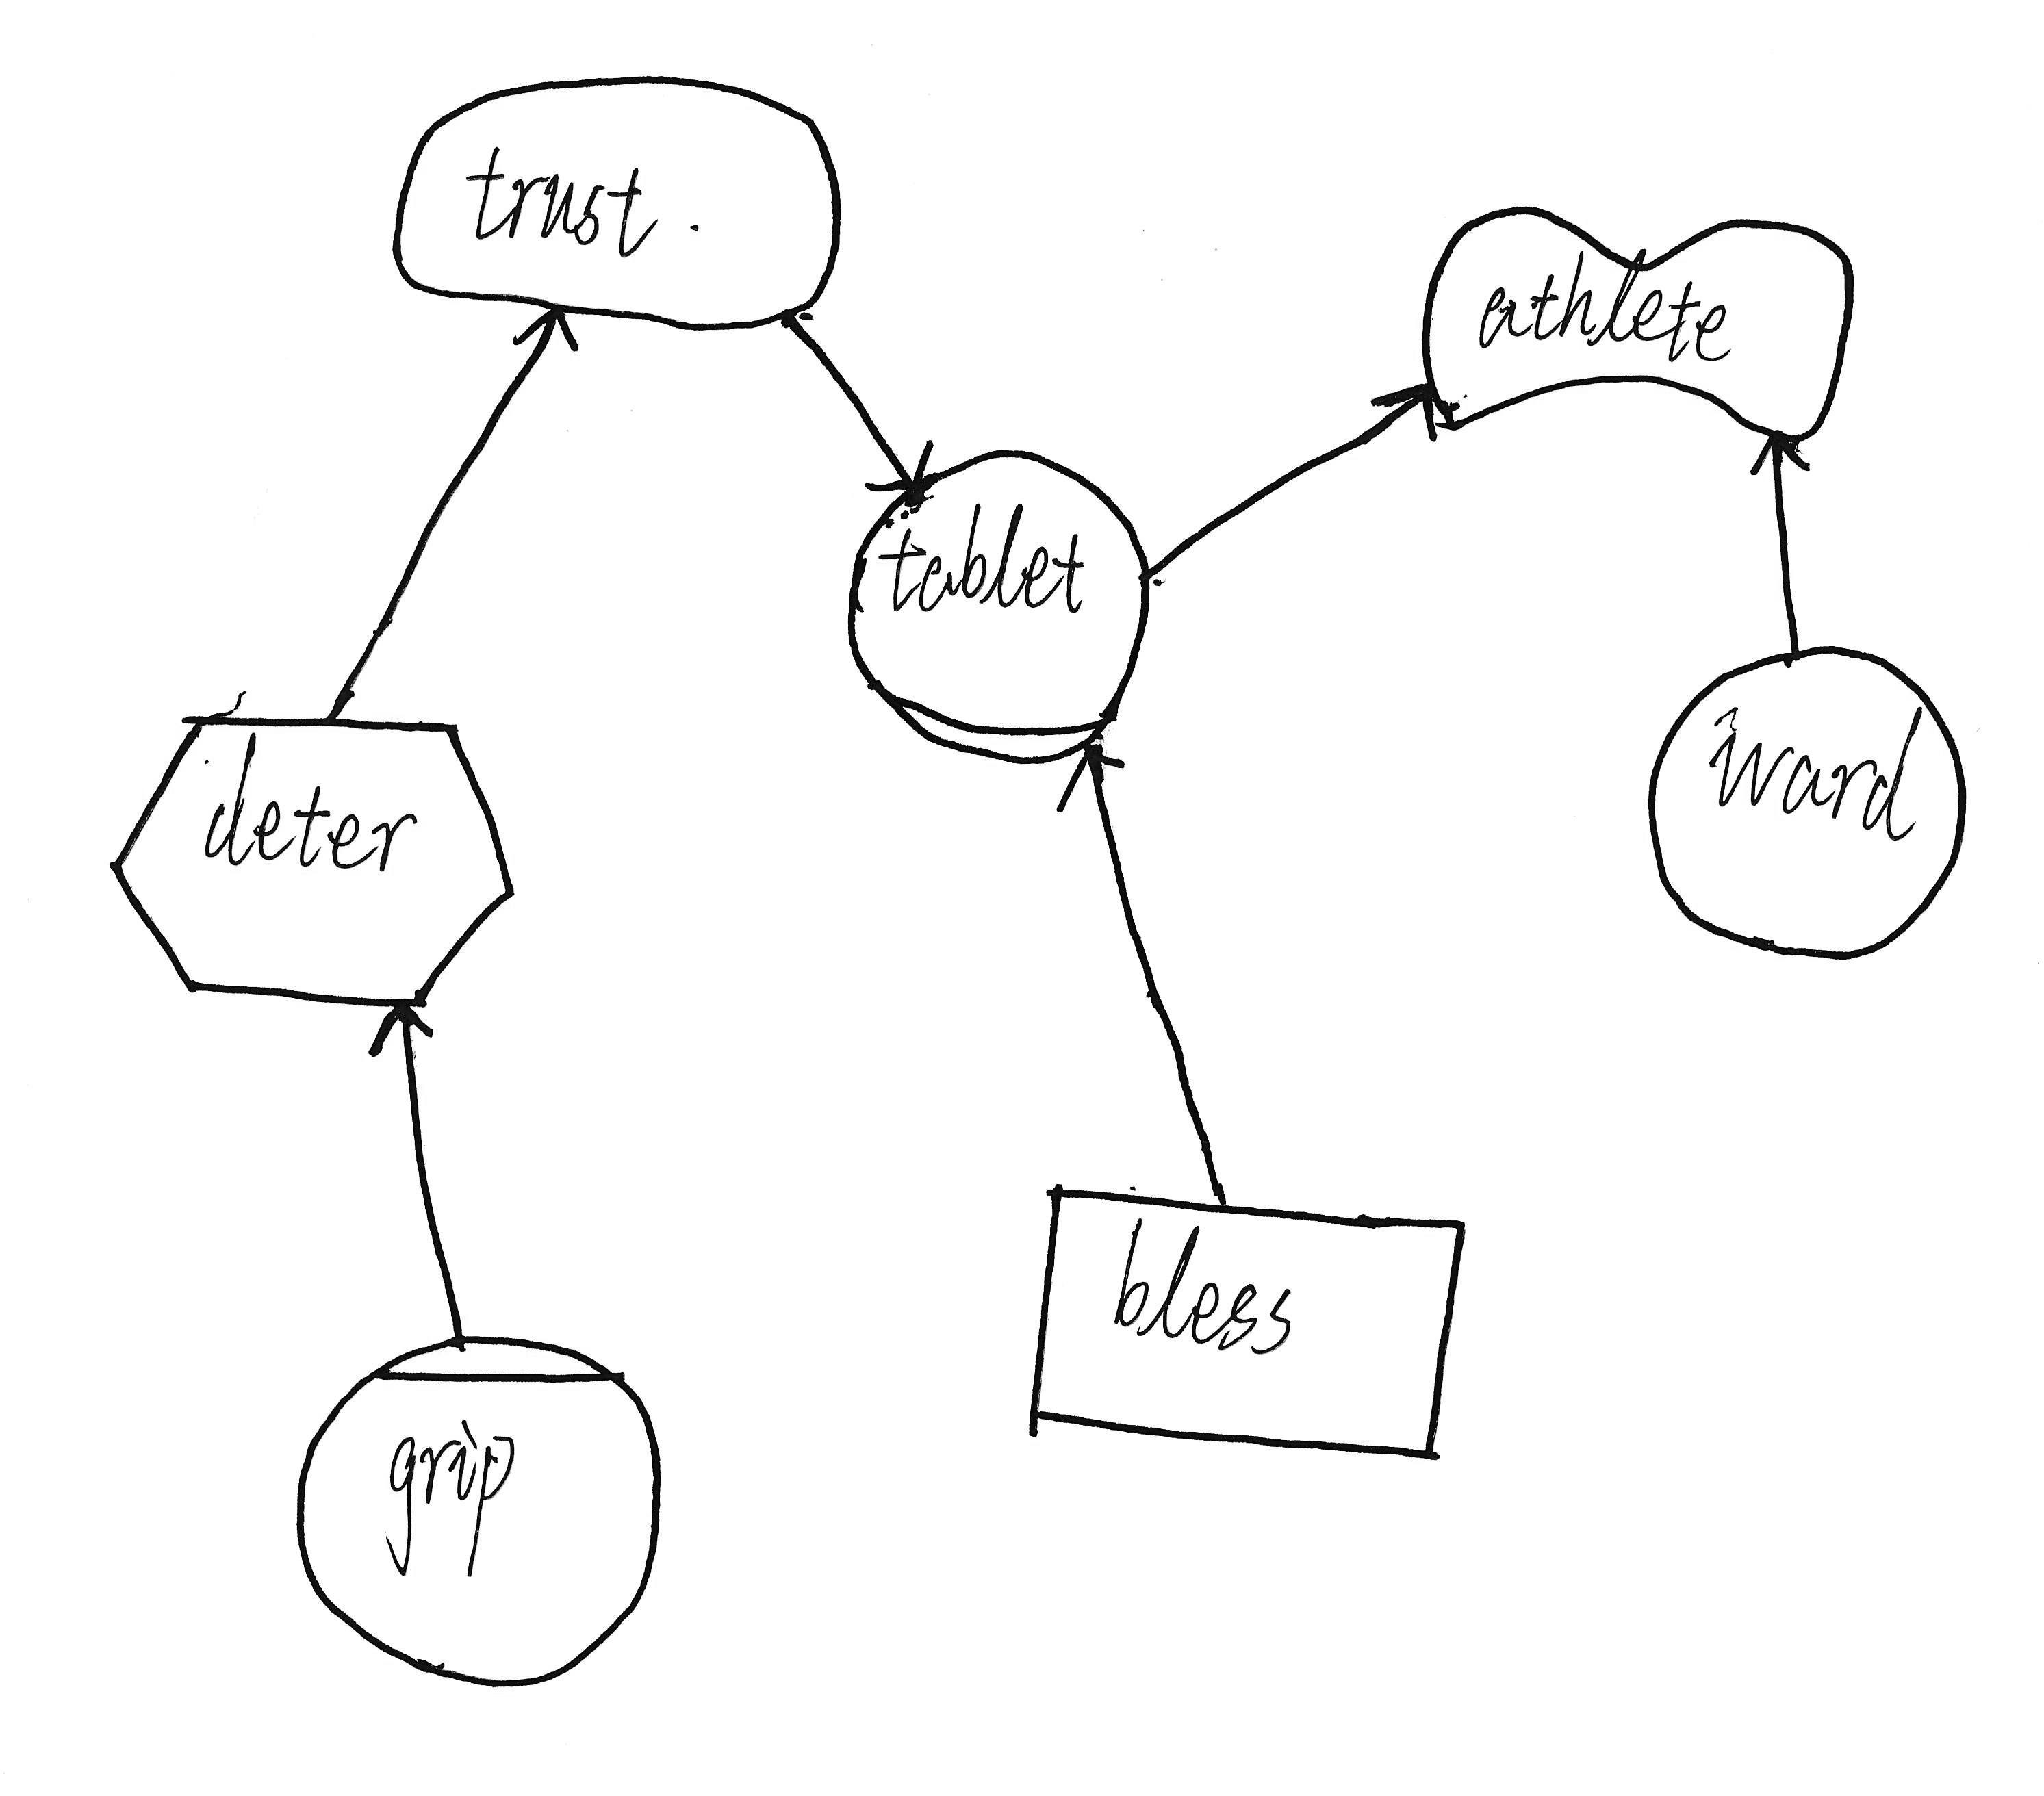actor: (1622, 619, 1985, 977)
agent: (278, 1318, 680, 1695)
arrow: (1354, 367, 1448, 473), (857, 419, 942, 511), (1057, 735, 1140, 824), (355, 994, 447, 1071), (499, 296, 591, 363), (1743, 426, 1816, 492)
goal: (374, 50, 860, 348)
quality: (1399, 186, 1872, 456)
resource: (1010, 1172, 1493, 1492)
role: (834, 435, 1166, 786)
task: (87, 688, 539, 1028)
